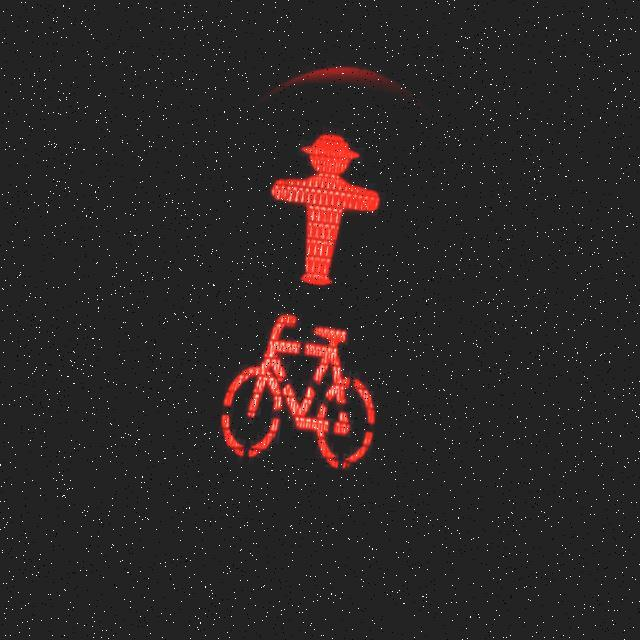red_light: (254, 118, 394, 301)
